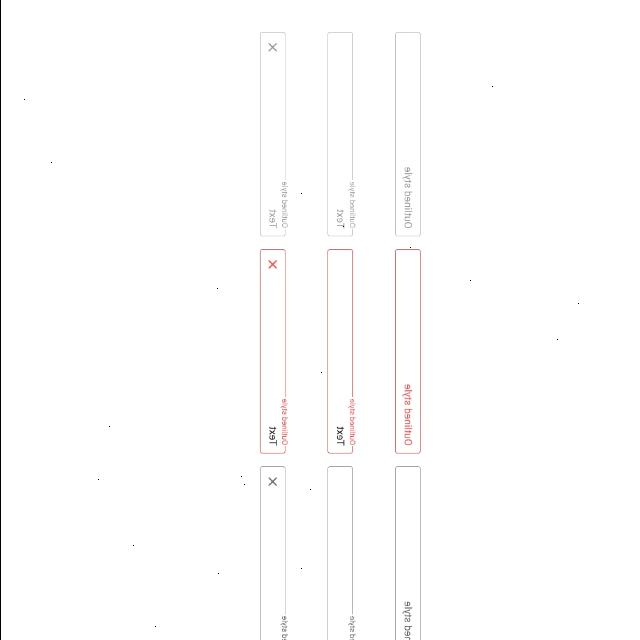VTextField: (259, 31, 289, 238), (326, 248, 356, 454), (326, 31, 356, 237), (258, 248, 288, 454), (394, 248, 422, 454), (394, 31, 422, 237), (258, 464, 288, 640), (326, 466, 356, 640), (393, 464, 422, 640)
